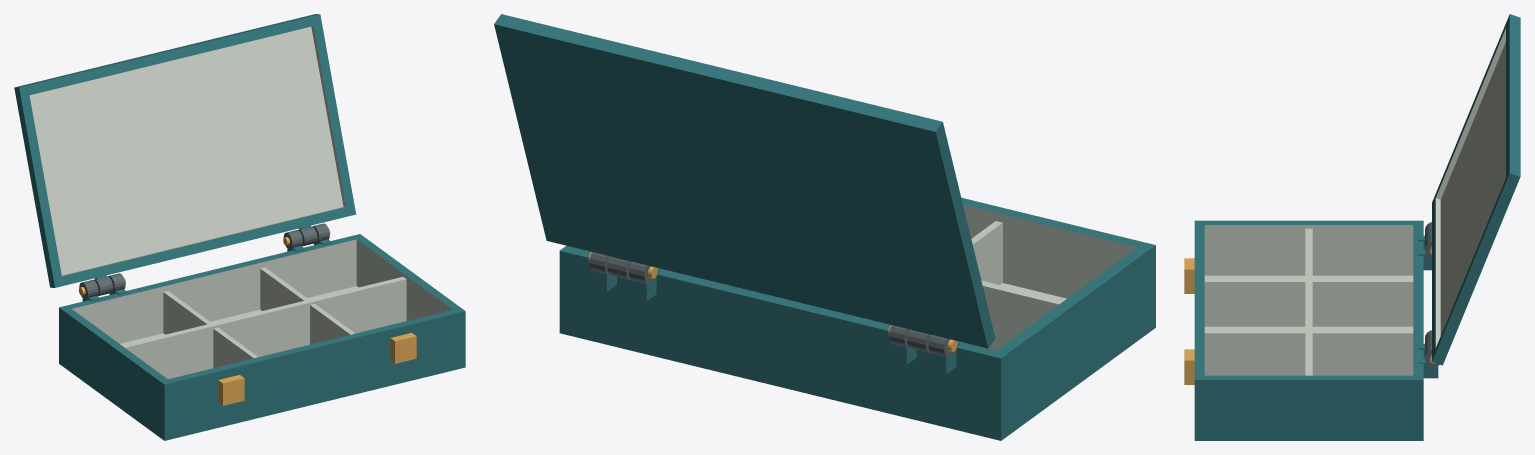
The picture shows the model from 3 angles, left to right: view 1: azimuth 30°, elevation 25°; view 2: azimuth 150°, elevation 25°; view 3: azimuth 270°, elevation 25°; orthographic projection. The views are drawn at different scales.
Visible parts, largest first — view 1: Lid_FixedRaisedRecessedHardShell, Shell_ContinuousBottomAndFourWalls, Partition_Cross, Partition_Long_1, Partition_Long_2, Front_FixedLatchPlate_1, Front_FixedLatchPlate_2; view 2: Lid_FixedRaisedRecessedHardShell, Shell_ContinuousBottomAndFourWalls, Partition_Cross, Partition_Long_1; view 3: Shell_ContinuousBottomAndFourWalls, Lid_FixedRaisedRecessedHardShell, Partition_Long_1, Partition_Long_2, Partition_Cross, Front_FixedLatchPlate_1, Front_FixedLatchPlate_2.
Boxes of the visible parts, left/top/right/bottom form: Lid_FixedRaisedRecessedHardShell: left=14, top=14, right=356, bottom=287; Shell_ContinuousBottomAndFourWalls: left=59, top=234, right=465, bottom=440; Partition_Cross: left=122, top=277, right=406, bottom=379; Partition_Long_1: left=163, top=291, right=258, bottom=367; Partition_Long_2: left=260, top=267, right=354, bottom=344; Front_FixedLatchPlate_1: left=218, top=375, right=244, bottom=405; Front_FixedLatchPlate_2: left=390, top=333, right=416, bottom=363; Lid_FixedRaisedRecessedHardShell: left=494, top=14, right=995, bottom=348; Shell_ContinuousBottomAndFourWalls: left=559, top=197, right=1155, bottom=440; Partition_Cross: left=981, top=280, right=1063, bottom=350; Partition_Long_1: left=971, top=221, right=1002, bottom=284; Shell_ContinuousBottomAndFourWalls: left=1194, top=220, right=1423, bottom=440; Lid_FixedRaisedRecessedHardShell: left=1432, top=14, right=1520, bottom=365; Partition_Long_1: left=1204, top=279, right=1413, bottom=326; Partition_Long_2: left=1204, top=330, right=1413, bottom=375; Partition_Cross: left=1305, top=228, right=1312, bottom=375; Front_FixedLatchPlate_1: left=1184, top=258, right=1194, bottom=293; Front_FixedLatchPlate_2: left=1184, top=349, right=1194, bottom=384.
Size of the model in its own units: 0.56 by 0.4386 by 0.499.
